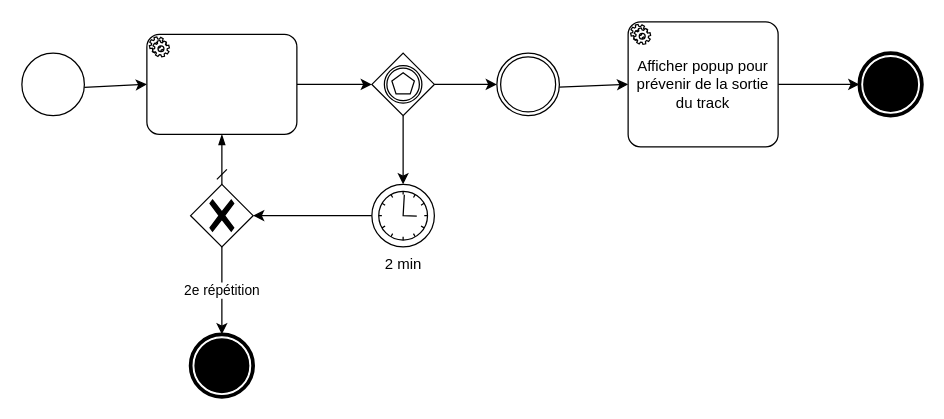
Some shapes in this 944 by 419 pixel diagram are drawn without their labels. The shapes that lost their labels are listed below. From the top down, each one's centre as x and y in pixels, then its label:
At point (221, 83): "Emettre un signal sonore".
At point (527, 84): "Application ouverte".
